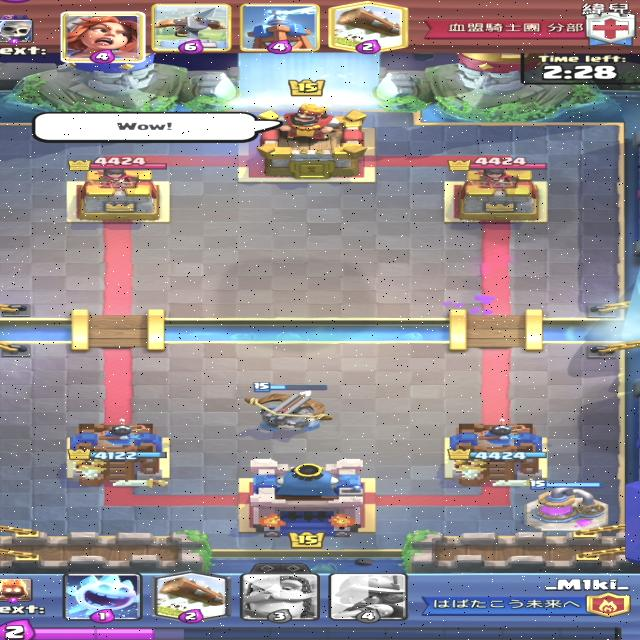Player-ElixirPump: (523, 479, 612, 533)
Player-XBow: (244, 382, 335, 431)
